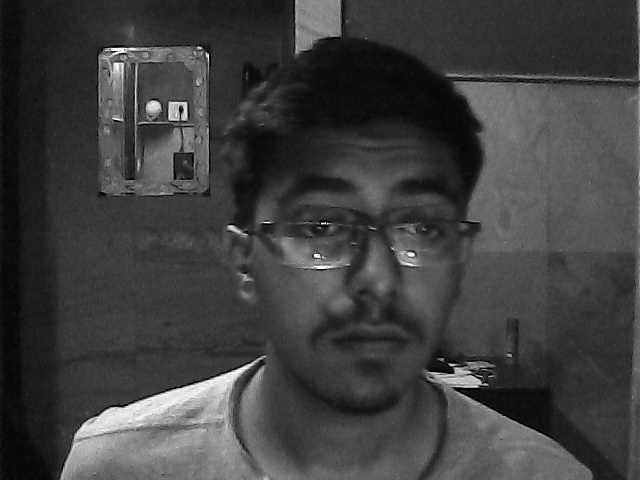nomask: (245, 107, 466, 412)
